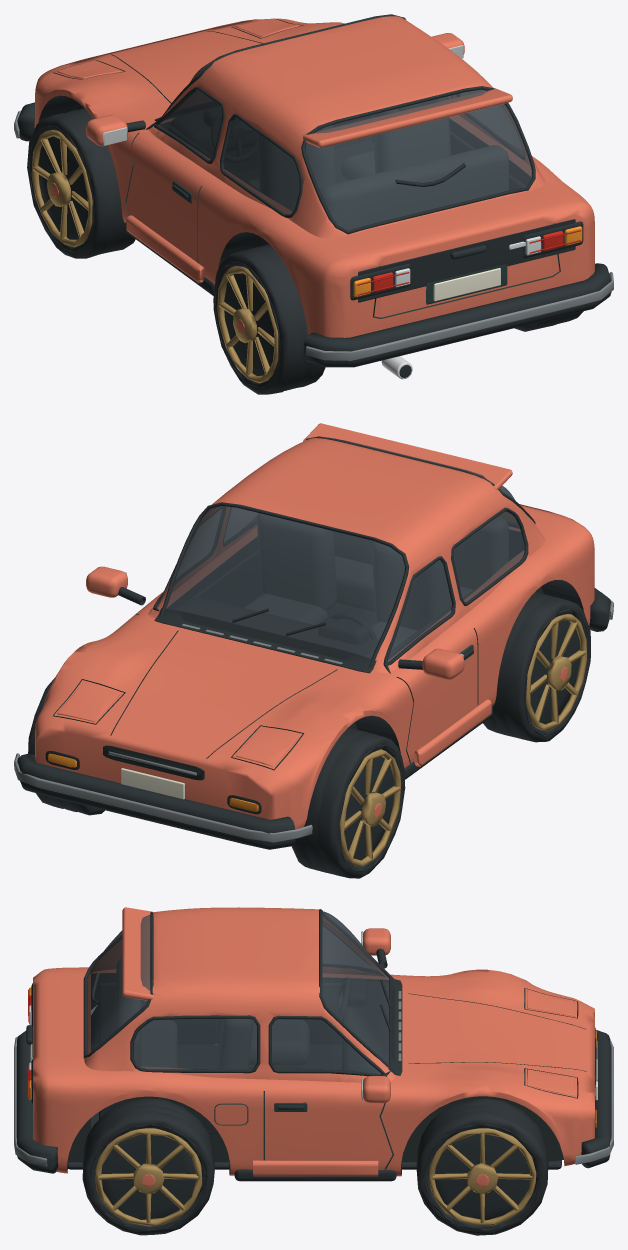
File: hachi_lod2.fbx
The picture shows the model from 3 angles, top to bottom: view 1: azimuth 30°, elevation 25°; view 2: azimuth 150°, elevation 25°; view 3: azimuth 270°, elevation 25°; orthographic projection. The views are drawn at different scales.
Parts seen in each view (by area): view 1: Body, Wheel_RL_Mesh, Wheel_FL_Mesh; view 2: Body, Wheel_FL_Mesh, Wheel_RL_Mesh, Wheel_FR_Mesh; view 3: Body, Wheel_RR_Mesh, Wheel_FR_Mesh.
Boxes of the visible parts, box(x1,y1,x2,y2) form: Body: box(14, 14, 613, 379); Wheel_RL_Mesh: box(213, 244, 325, 394); Wheel_FL_Mesh: box(27, 108, 135, 258); Body: box(14, 423, 613, 849); Wheel_FL_Mesh: box(291, 727, 405, 878); Wheel_RL_Mesh: box(483, 592, 590, 742); Wheel_FR_Mesh: box(28, 678, 104, 815); Body: box(14, 907, 613, 1181); Wheel_RR_Mesh: box(82, 1098, 214, 1235); Wheel_FR_Mesh: box(416, 1099, 548, 1235).
Size of the model in its own units: 231 by 151 by 363.
